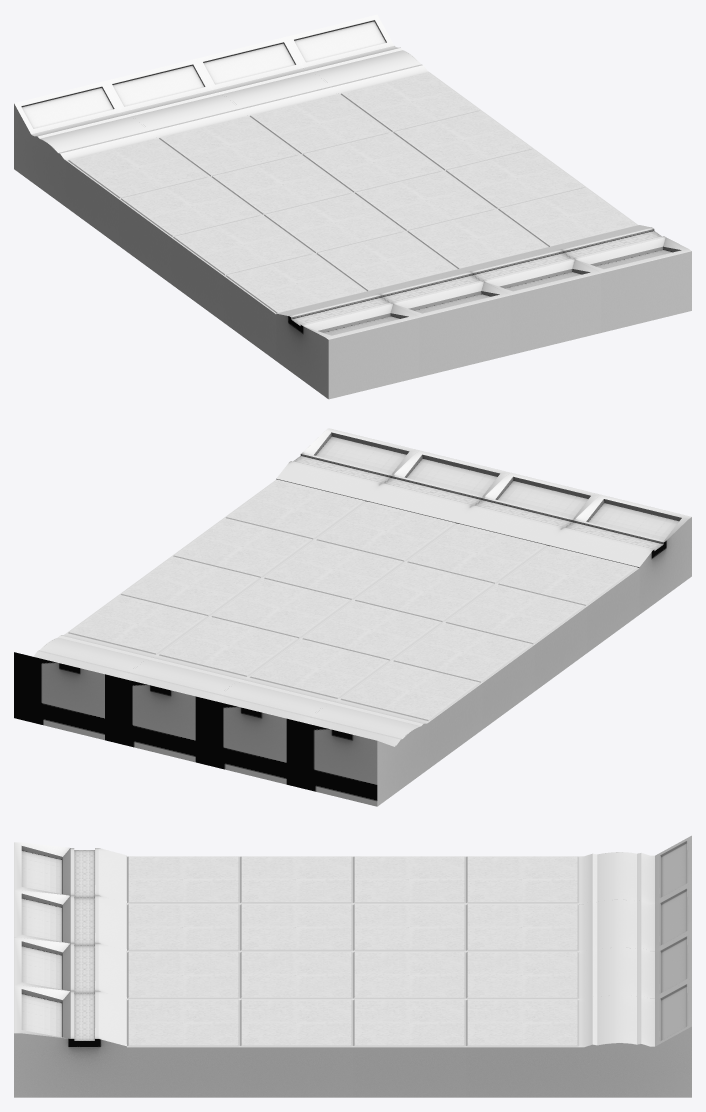
Rendered from WallSolid_4_4.fbx.
3 views of the same model, one above another, from view 1: azimuth 30°, elevation 25°; view 2: azimuth 150°, elevation 25°; view 3: azimuth 270°, elevation 25° (orthographic). The views are drawn at different scales.
Visible parts, largest first — view 1: Wall_solid_4_4; view 2: Wall_solid_4_4; view 3: Wall_solid_4_4.
Boxes of the visible parts, x1=… form: Wall_solid_4_4: x1=14, y1=14, x2=691, y2=399; Wall_solid_4_4: x1=14, y1=428, x2=691, y2=806; Wall_solid_4_4: x1=14, y1=835, x2=691, y2=1097.
Size of the model in its own units: 4 by 0.6947 by 6.
